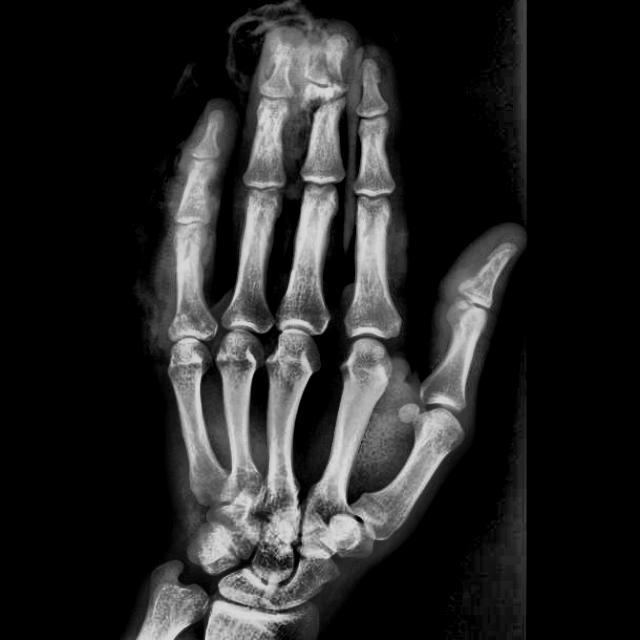fracture: (298, 26, 354, 106)
